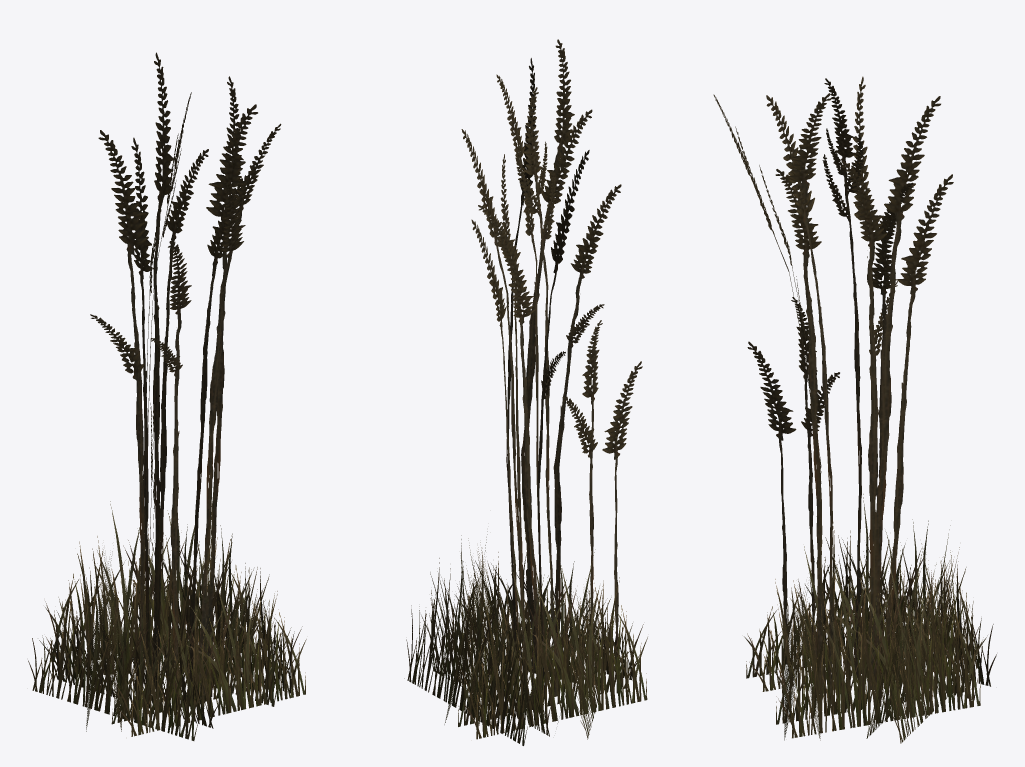
Rendered from Foliage 2.FBX.
3 views of the same model, side by side, from view 1: azimuth 30°, elevation 25°; view 2: azimuth 150°, elevation 25°; view 3: azimuth 270°, elevation 25° (orthographic). The views are drawn at different scales.
Parts seen in each view (by area): view 1: Foliage 2; view 2: Foliage 2; view 3: Foliage 2.
Boxes of the visible parts, x1,y1,x2,y2 form: Foliage 2: (28, 52, 306, 740); Foliage 2: (404, 39, 647, 745); Foliage 2: (713, 76, 996, 743).
Size of the model in its own units: 13.82 by 14.89 by 34.51.
